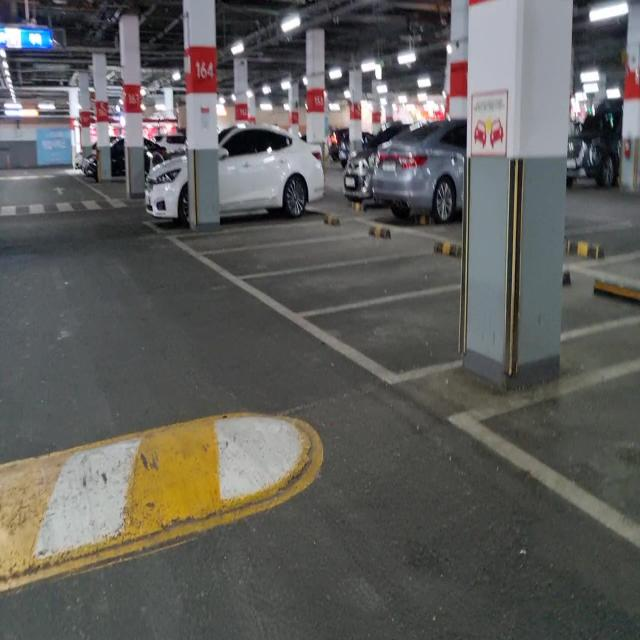empty: (299, 270, 640, 378), (233, 246, 495, 323), (202, 238, 423, 284), (166, 223, 354, 260)
occupied: (147, 130, 306, 233)
